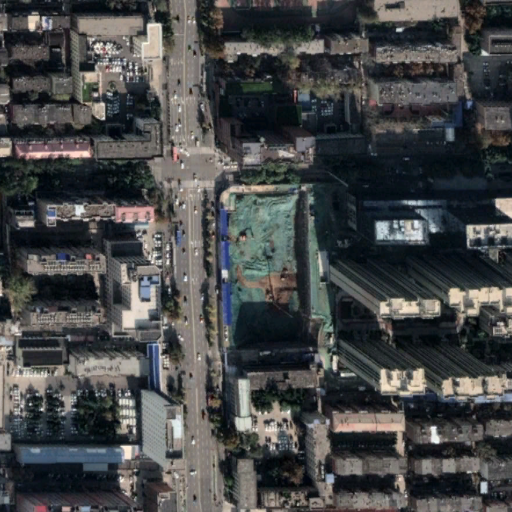cw: (222, 187, 333, 378)
